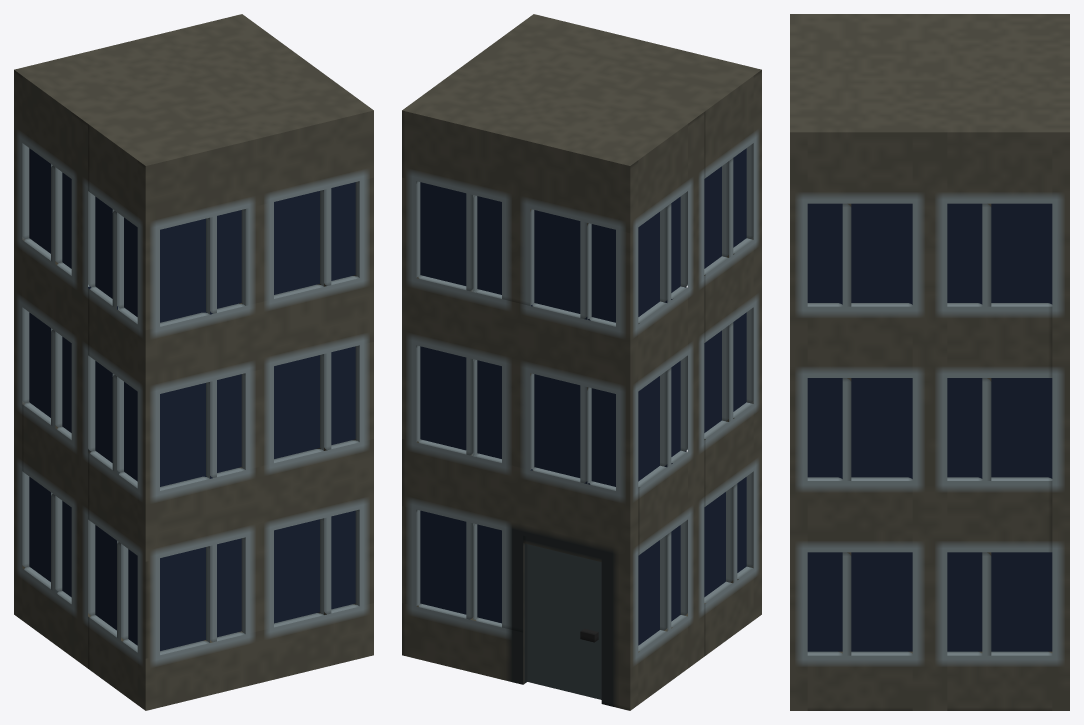
File: budynki_uni2_01.dae
3 views of the same model, side by side, from view 1: azimuth 30°, elevation 25°; view 2: azimuth 150°, elevation 25°; view 3: azimuth 270°, elevation 25° (orthographic). The views are drawn at different scales.
Parts seen in each view (by area): view 1: Content; view 2: Content; view 3: Content.
Part boxes in pixels (box(x1,y1,x2,y2)): Content: box(14, 14, 373, 710); Content: box(402, 14, 761, 710); Content: box(790, 14, 1069, 710).
Size of the model in its own units: 32 by 73 by 32.
Materials: 1 (1 with a texture image).
